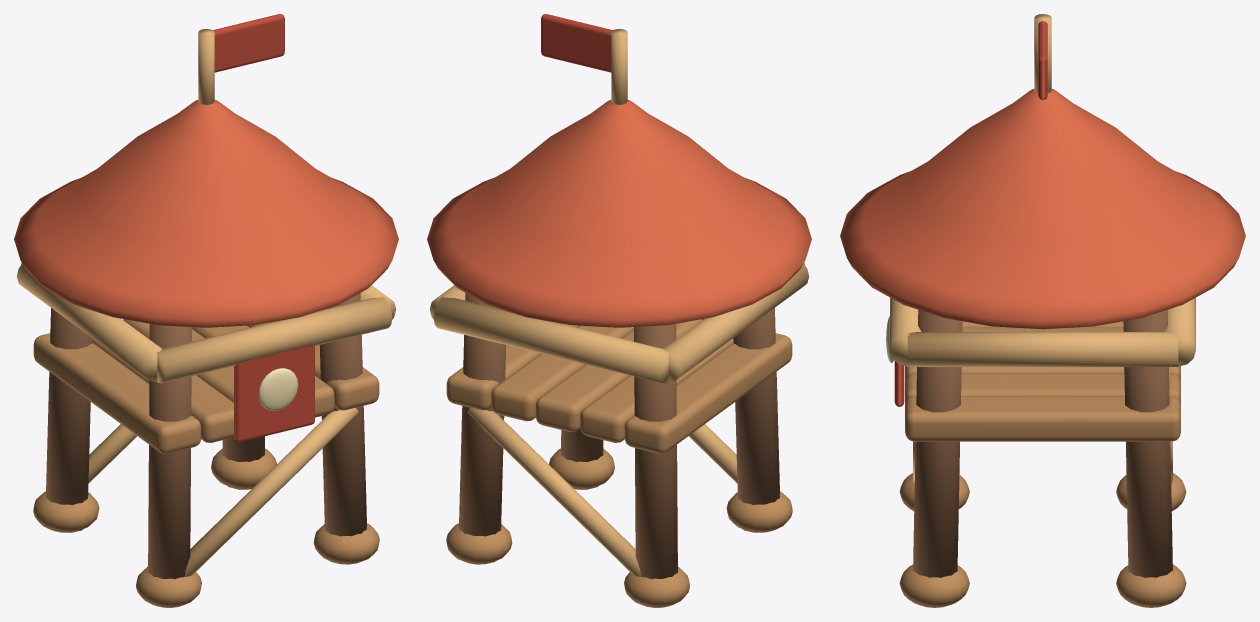
File: tower.glb
The picture shows the model from 3 angles, left to right: view 1: azimuth 30°, elevation 25°; view 2: azimuth 150°, elevation 25°; view 3: azimuth 270°, elevation 25°; orthographic projection. The views are drawn at different scales.
Parts seen in each view (by area): view 1: tower; view 2: tower; view 3: tower.
Boxes of the visible parts, x1,y1,x2,y2 form: tower: [14, 14, 398, 607]; tower: [427, 14, 811, 607]; tower: [840, 14, 1245, 607].
Bounding box in the file's own units: 1.5 × 2.2 × 1.5.
Materials: 1 (1 with a texture image).
